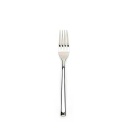Fork: (53, 20, 71, 121)
